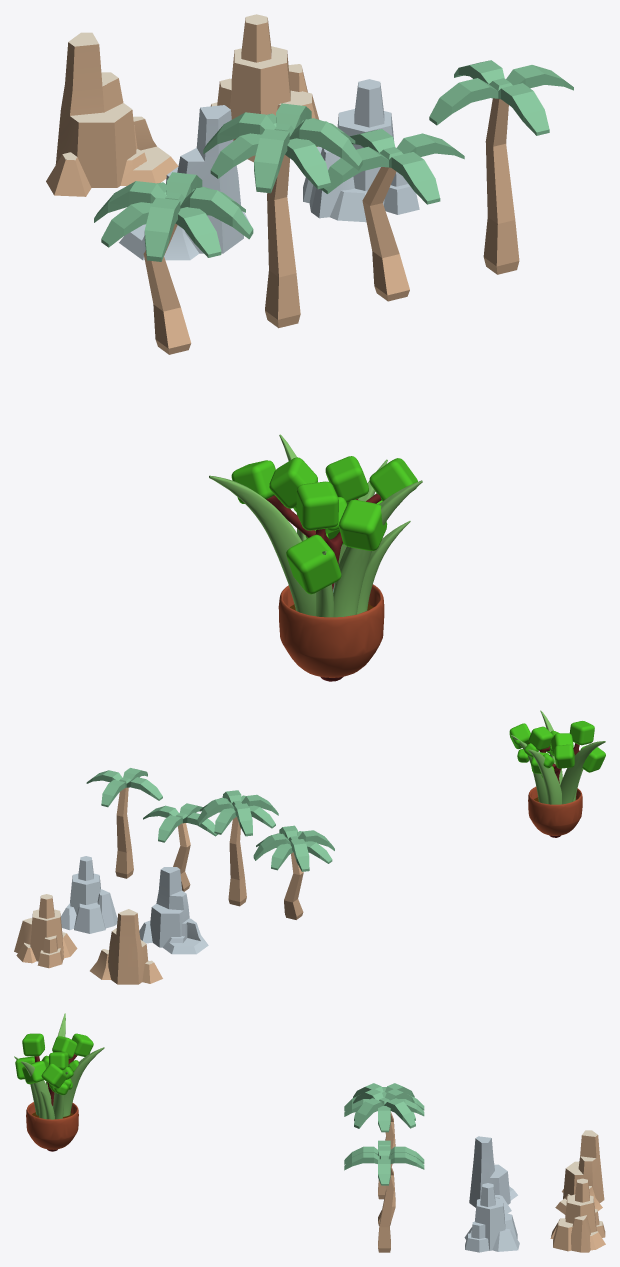
The model's file is kit_nature.glb.
3 views of the same model, one above another, from view 1: azimuth 30°, elevation 25°; view 2: azimuth 150°, elevation 25°; view 3: azimuth 270°, elevation 25° (orthographic). The views are drawn at different scales.
Parts seen in each view (by area): view 1: formationLarge_rock, Group 20, Group 154, plant.001, formation_rock, formation_stone, formationLarge_stone, Group 30, Group 28, Group 25, Group 152, Group 23 (+12 smaller); view 2: formationLarge_stone, formationLarge_rock, formation_rock, formation_stone, Group 20, Group 154, plant.001, Group 30, Group 25, Group 28, Group 152, NurbsPath.009 (+9 smaller); view 3: formation_rock, formation_stone, Group 154, formationLarge_rock, formationLarge_stone, plant.001, Group 30, Group 28, NurbsPath.010, Group 20, Group 25, Cube.005 (+5 smaller).
Boxes of the visible parts, box(x1,y1,x2,y2) form: formationLarge_rock: box(46, 32, 178, 196); Group 20: box(94, 172, 253, 261); Group 154: box(203, 103, 362, 193); plant.001: box(278, 584, 384, 677); formation_rock: box(211, 14, 319, 162); formation_stone: box(303, 79, 419, 222); formationLarge_stone: box(119, 105, 249, 260); Group 30: box(429, 60, 573, 135); Group 28: box(483, 98, 519, 274); Group 25: box(320, 129, 464, 204); Group 152: box(265, 155, 300, 328); Group 23: box(362, 167, 409, 301); formationLarge_stone: box(139, 867, 208, 954); formationLarge_rock: box(90, 909, 162, 984); formation_rock: box(14, 894, 77, 968); formation_stone: box(61, 856, 117, 933); Group 20: box(253, 825, 334, 871); Group 154: box(197, 790, 278, 836); plant.001: box(528, 786, 582, 835); Group 30: box(86, 768, 162, 807); Group 25: box(143, 803, 217, 842); Group 28: box(115, 787, 133, 878); Group 152: box(228, 817, 246, 906); NurbsPath.009: box(560, 741, 605, 804); formation_rock: box(550, 1178, 605, 1252); formation_stone: box(464, 1183, 519, 1252); Group 154: box(344, 1089, 424, 1132); formationLarge_rock: box(555, 1130, 604, 1214); formationLarge_stone: box(469, 1136, 517, 1213); plant.001: box(26, 1102, 78, 1149); Group 30: box(344, 1146, 424, 1185); Group 28: box(378, 1176, 393, 1252); NurbsPath.010: box(63, 1047, 104, 1116); Group 20: box(344, 1083, 424, 1121); Group 25: box(344, 1140, 424, 1164); Cube.005: box(22, 1033, 44, 1056).
Size of the model in its own units: 7.58 by 2.62 by 11.41.
